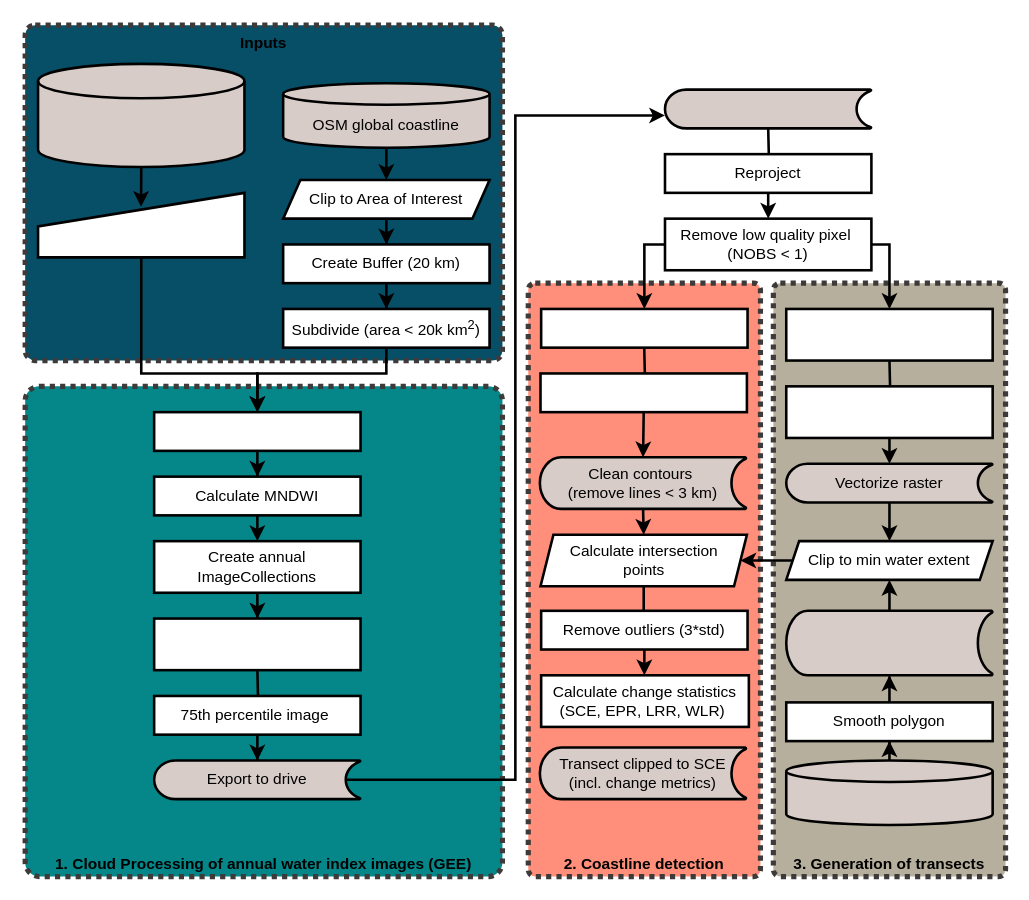
This 1029x900 diagram has some shape labels left out. Here are the shapes that lost their labels. From the top down, the centre of each, then its label:
(x=140, y=115): Landsat 5 ETM SR Landsat 7 ETM+ SR Landsat 8 OLI SR
(x=767, y=108): Download from Drive
(x=140, y=224): Time Period
(x=643, y=327): Calculate Otsu's threshold
(x=888, y=334): Create minimum water extent raster
(x=643, y=392): Extract contours
(x=888, y=411): Clean raster (remove pixel cluster < 50 km 2 )
(x=256, y=431): Cloud masking
(x=256, y=644): Count valid observations per pixel (NOBS)
(x=888, y=642): Create perpendicular transects (distance: 100 m, length: 5 km)
(x=888, y=792): GDAM admin boundaries
